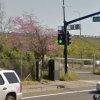Car: (0, 63, 24, 97)
